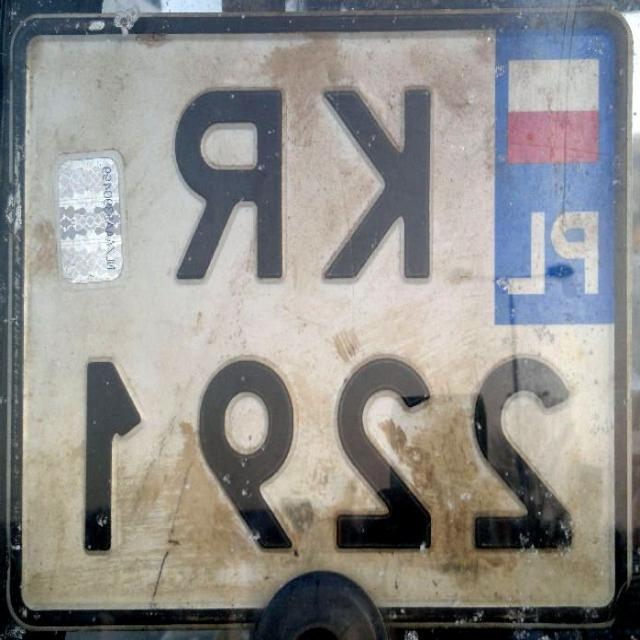pl_license_plate: (18, 21, 622, 610)
